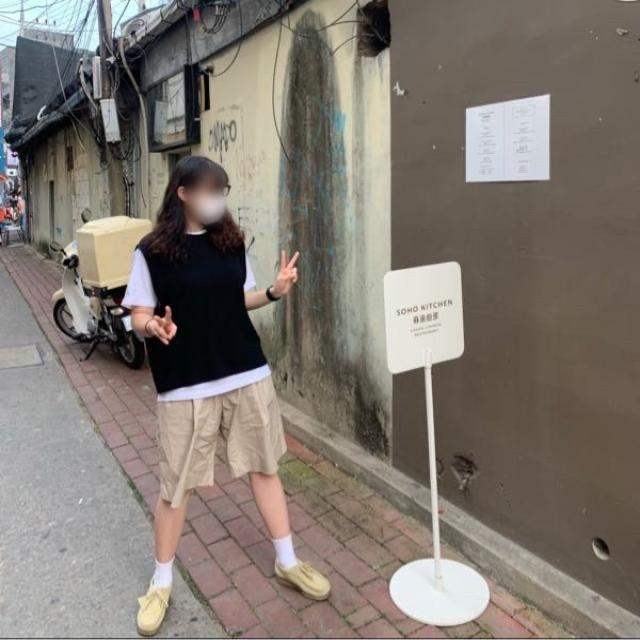shortpants: (156, 367, 283, 508)
shortsleeve: (123, 219, 274, 401)
